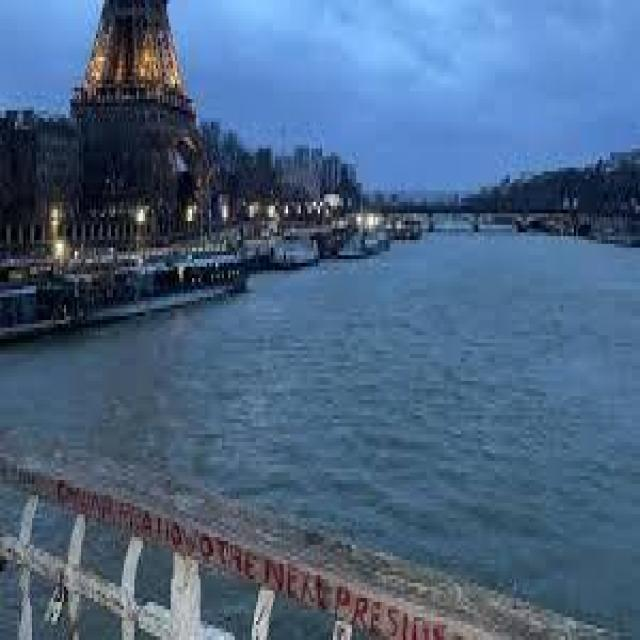nonspitting: (57, 476, 446, 640)
